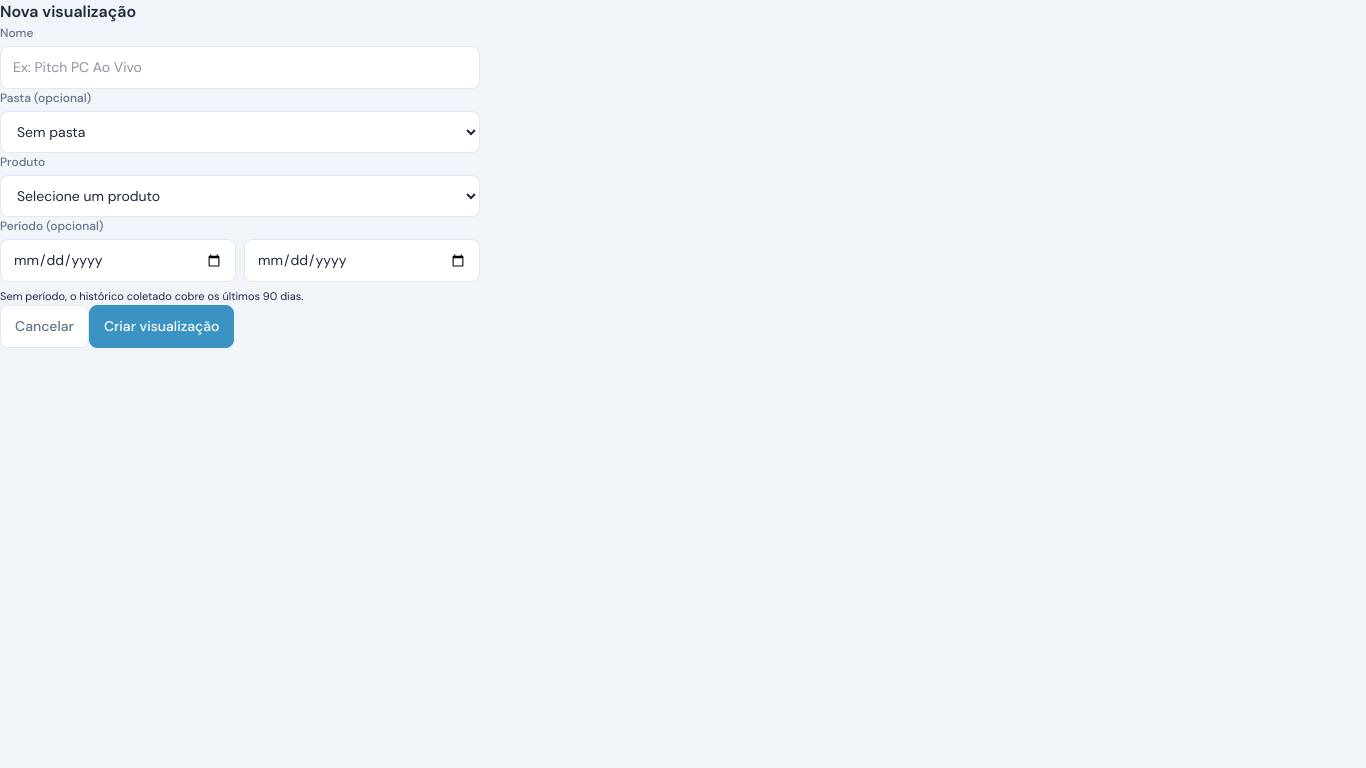
Test case: ViewFormModal — criar › período com uma data só ou invertido é recusado
This screenshot has width=1366, height=768.
In the field with test id "view-form-name": [240, 68] box x1=0 y1=46 x2=480 y2=89, type "X"
Select "Produto Um" in the dropdown with test id "view-form-product": [240, 196] box x1=0 y1=175 x2=480 y2=217
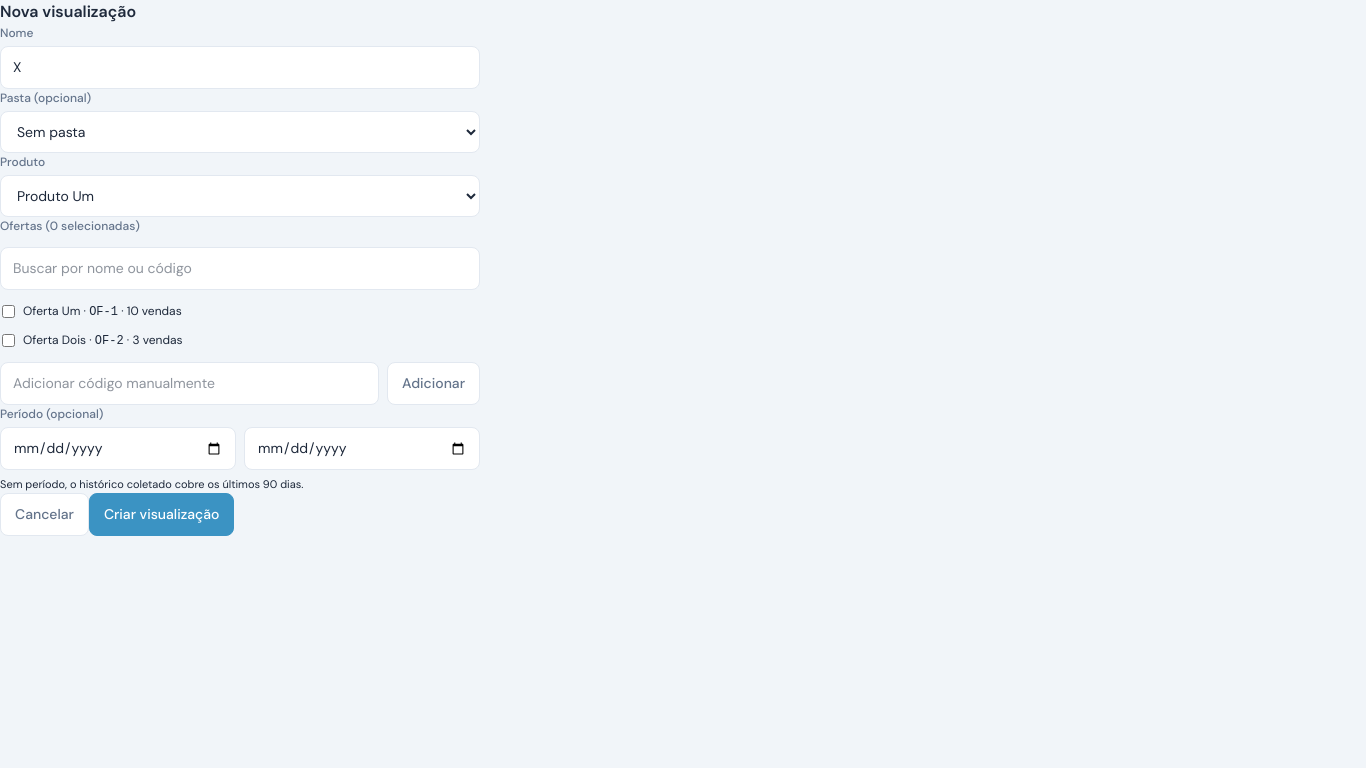
Expected: the checkbox with test id "view-form-offer-OF-1" is shown
Click the checkbox with test id "view-form-offer-OF-1": [8, 312] box x1=2 y1=305 x2=15 y2=318
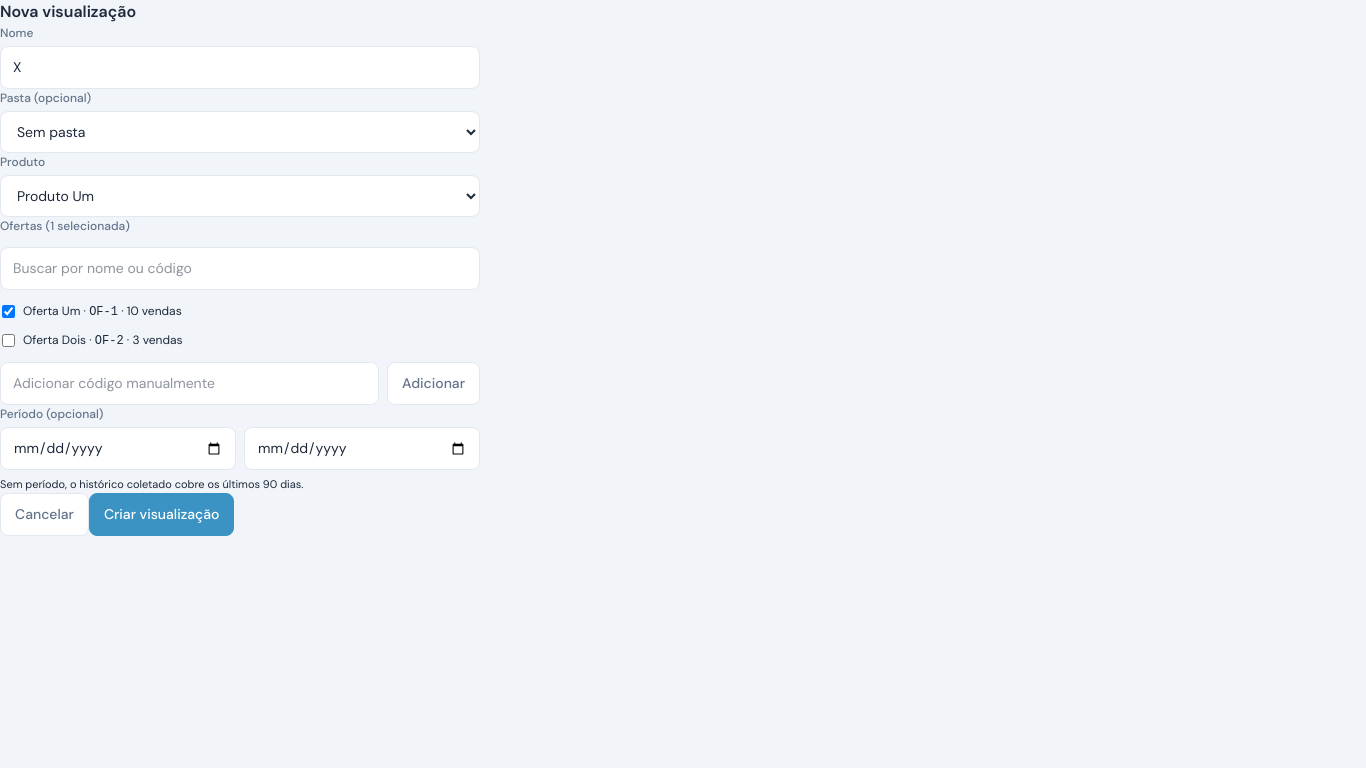
In the date field with test id "view-form-start": [118, 448] box x1=0 y1=427 x2=236 y2=470, type "2026-08-10"
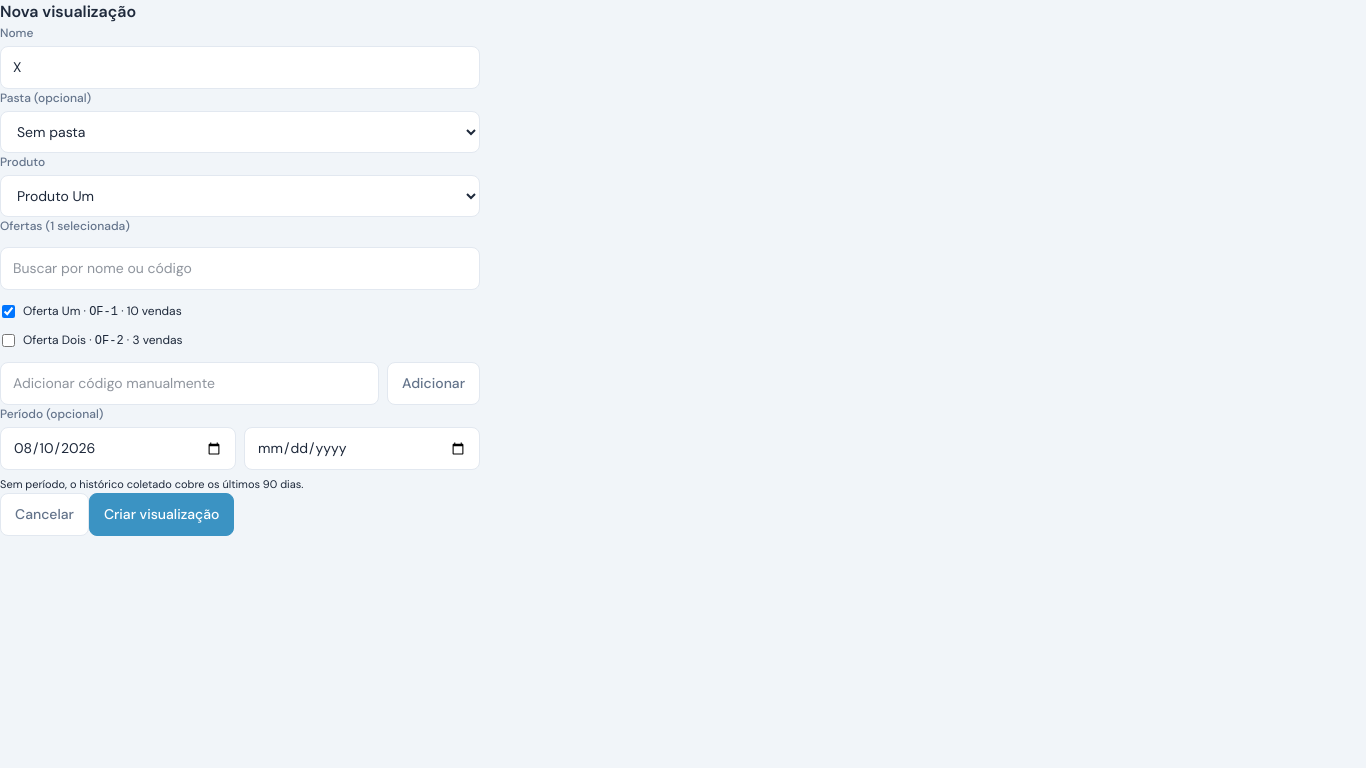
Click the button with test id "view-form-save": [162, 514] box x1=89 y1=492 x2=234 y2=536
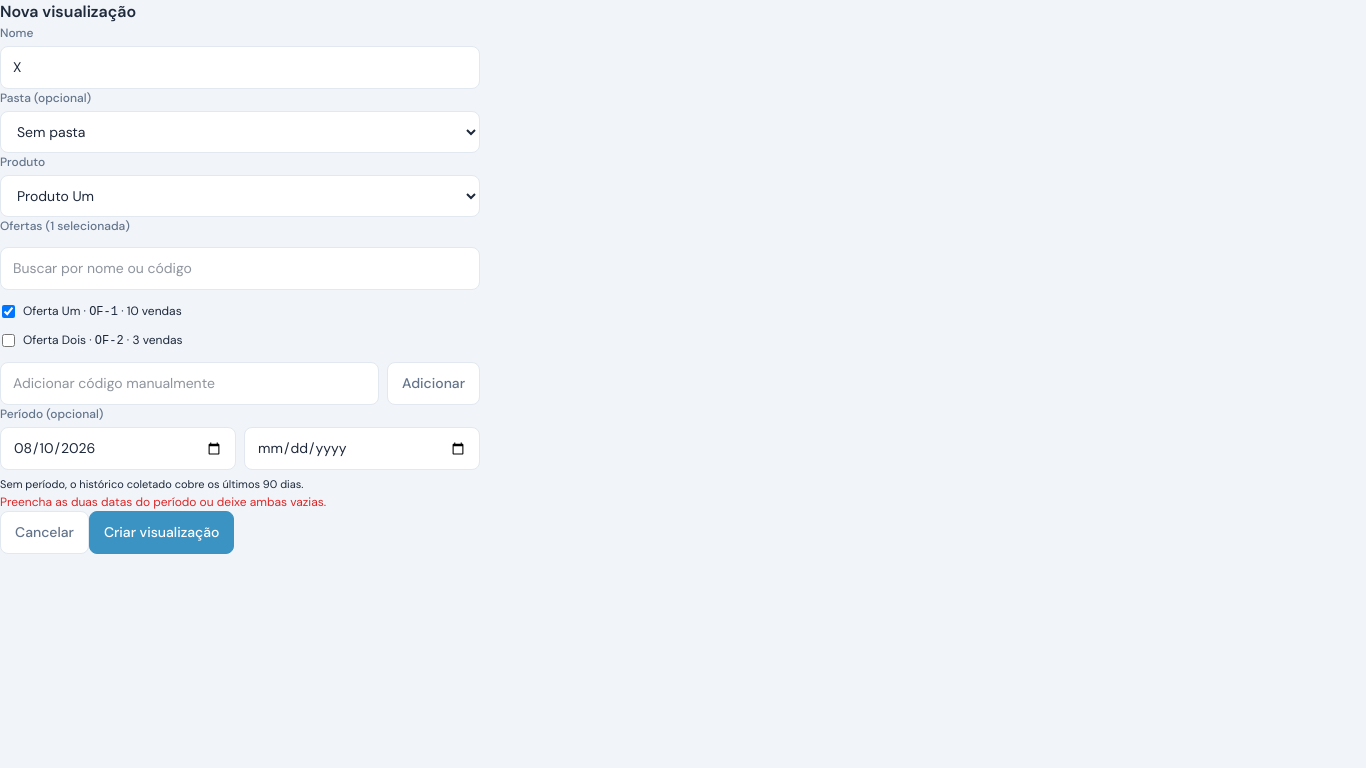
Expected: the message with test id "view-form-error" shows "duas datas", x1=0 y1=494 x2=326 y2=510
In the date field with test id "view-form-end": [362, 448] box x1=244 y1=427 x2=480 y2=470, type "2026-08-01"
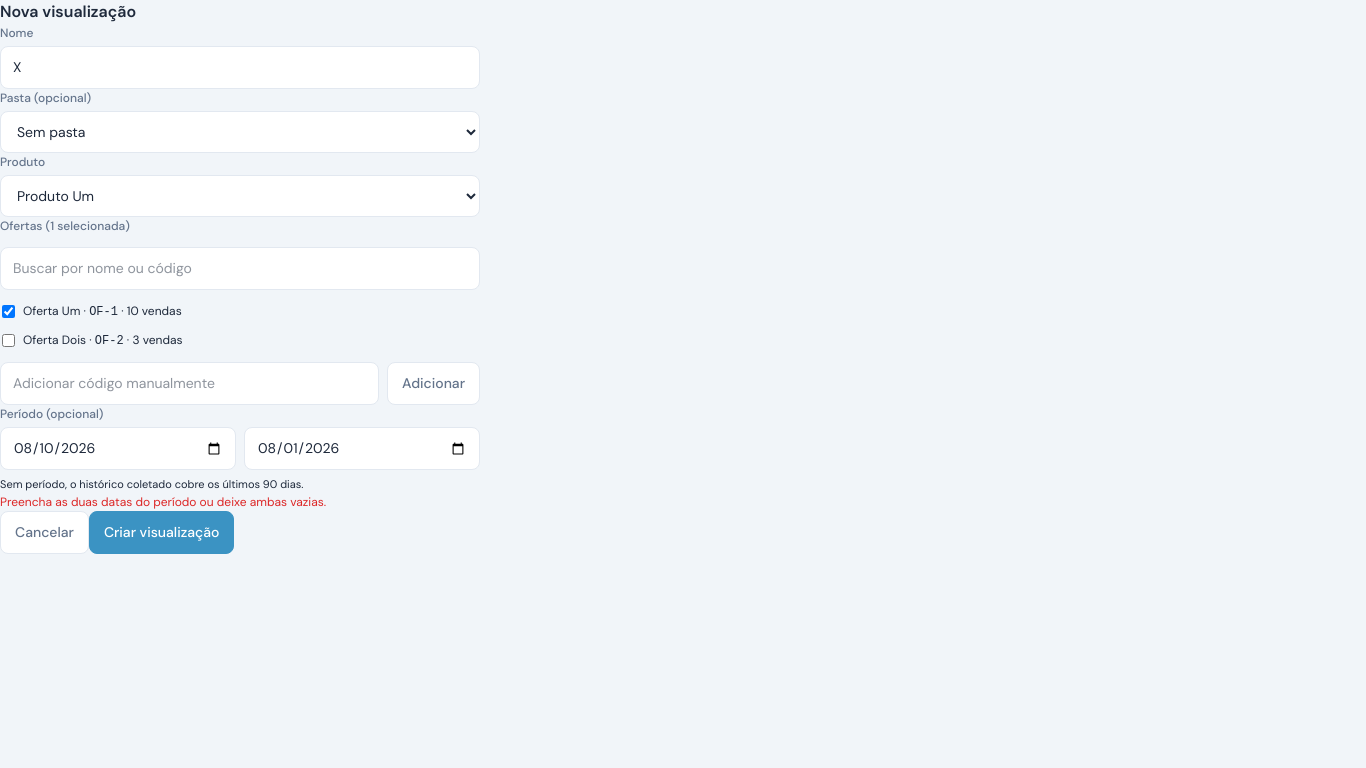
Click the button with test id "view-form-save": [162, 532] box x1=89 y1=510 x2=234 y2=554
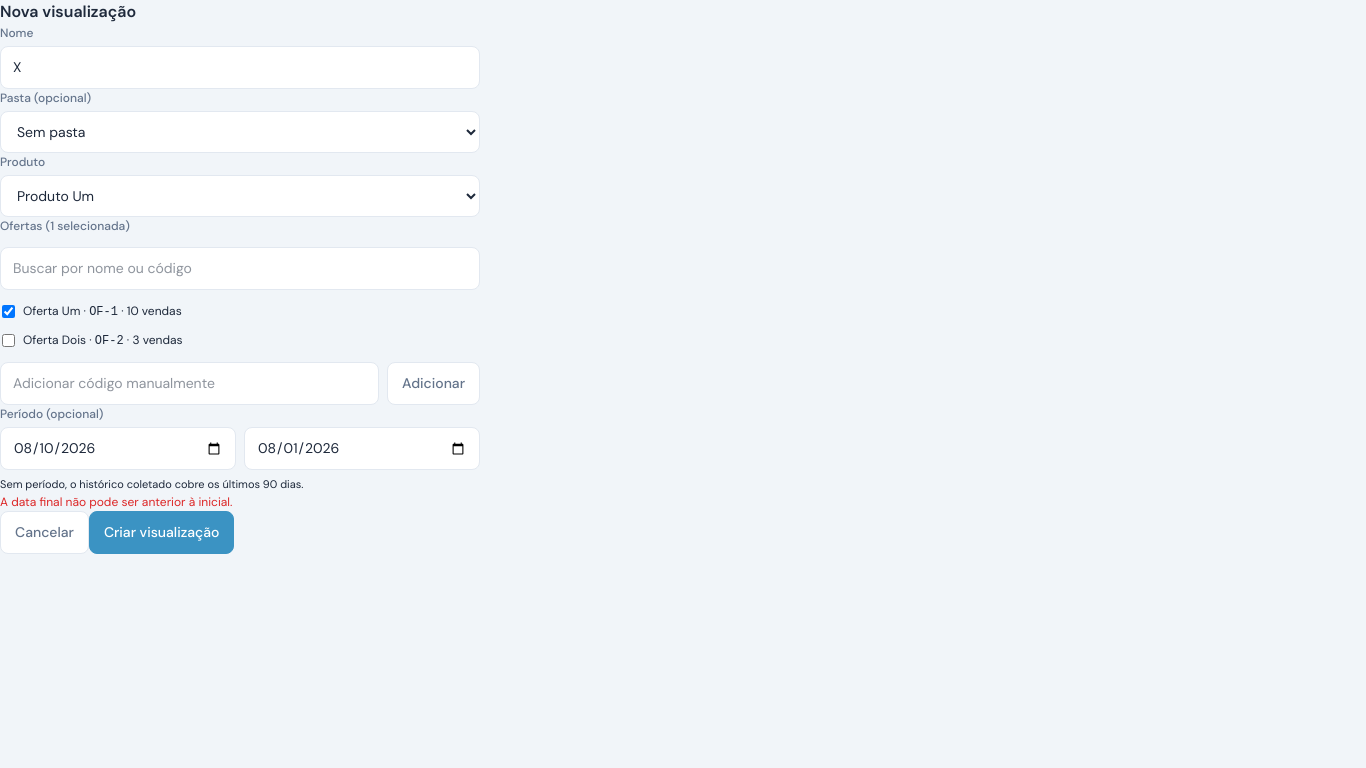
Expected: the message with test id "view-form-error" shows "anterior", x1=0 y1=494 x2=232 y2=510
